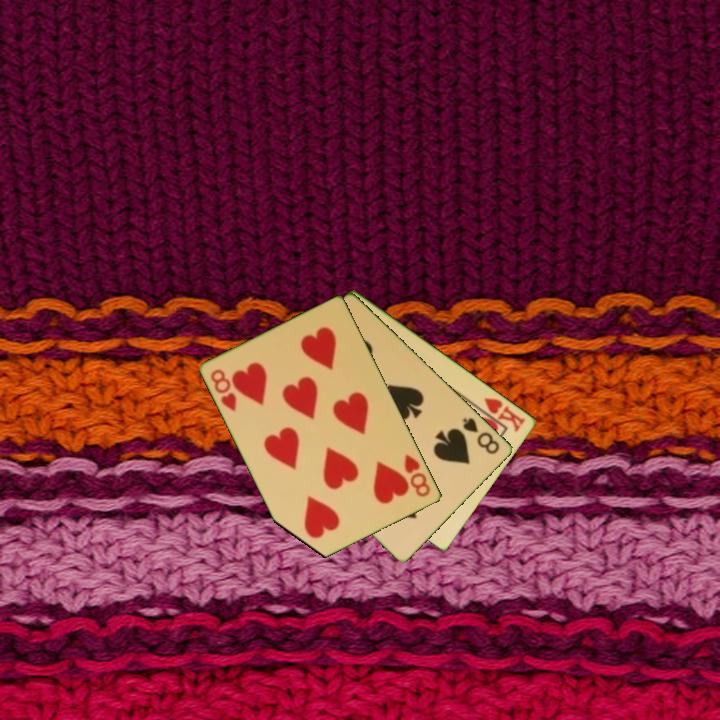8h: (401, 450, 434, 500), (207, 366, 240, 414)
8s: (459, 414, 503, 457)
Kh: (474, 394, 529, 435)
